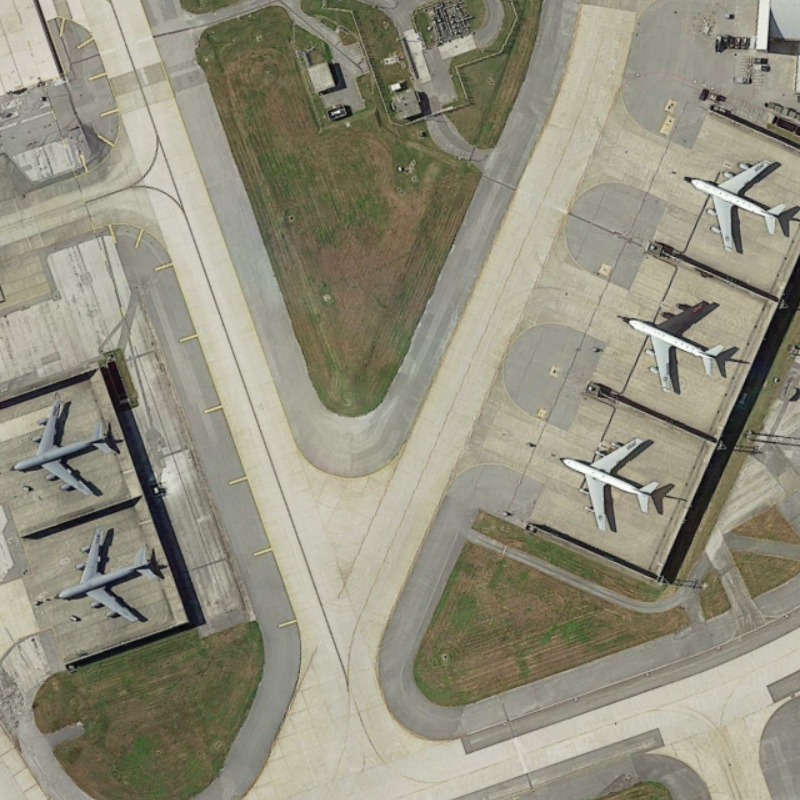A11: (552, 428, 670, 537), (674, 157, 792, 257), (614, 298, 736, 394)
A14: (48, 520, 167, 631), (7, 398, 121, 501)
